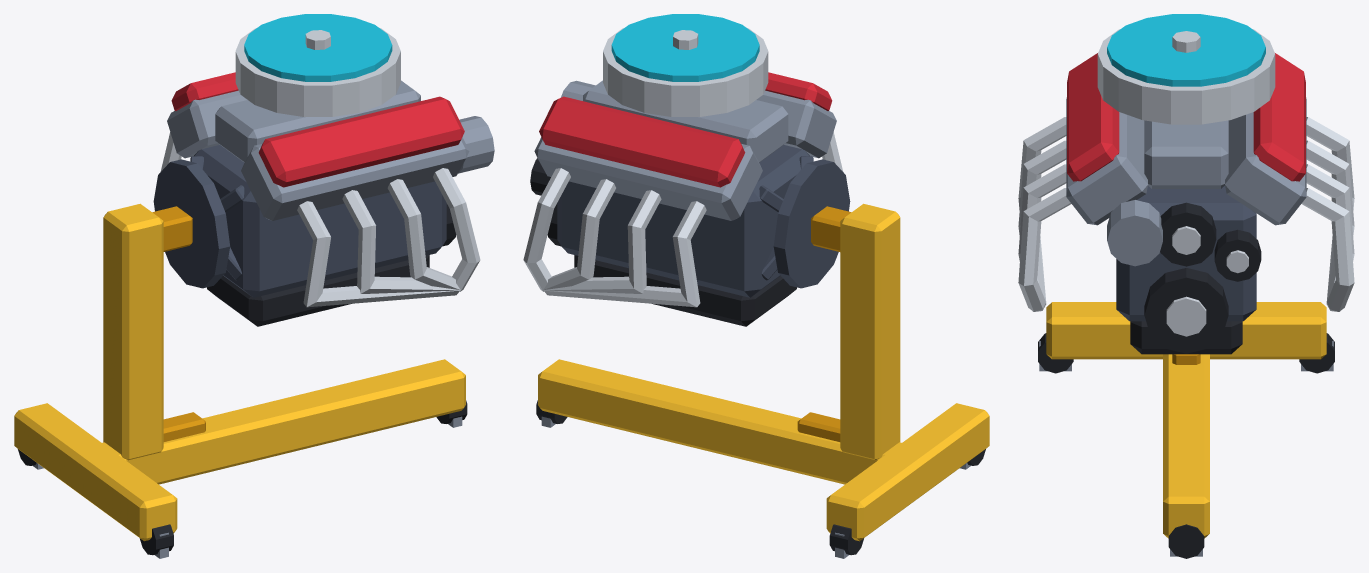
The model's file is EngineStand.fbx.
3 renders of one model, left to right at view 1: azimuth 30°, elevation 25°; view 2: azimuth 150°, elevation 25°; view 3: azimuth 270°, elevation 25°, orthographic. The views are drawn at different scales.
Parts seen in each view (by area): view 1: EngineStand; view 2: EngineStand; view 3: EngineStand.
Boxes of the visible parts, x1,y1,x2,y2 form: EngineStand: (14, 14, 494, 558); EngineStand: (523, 14, 989, 558); EngineStand: (1018, 14, 1354, 558).
Size of the model in its own units: 5.07 by 5.3 by 3.6.
1 material, 1 textured.
